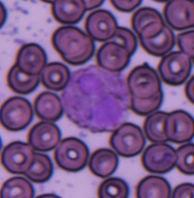E: (61, 65, 129, 131)
